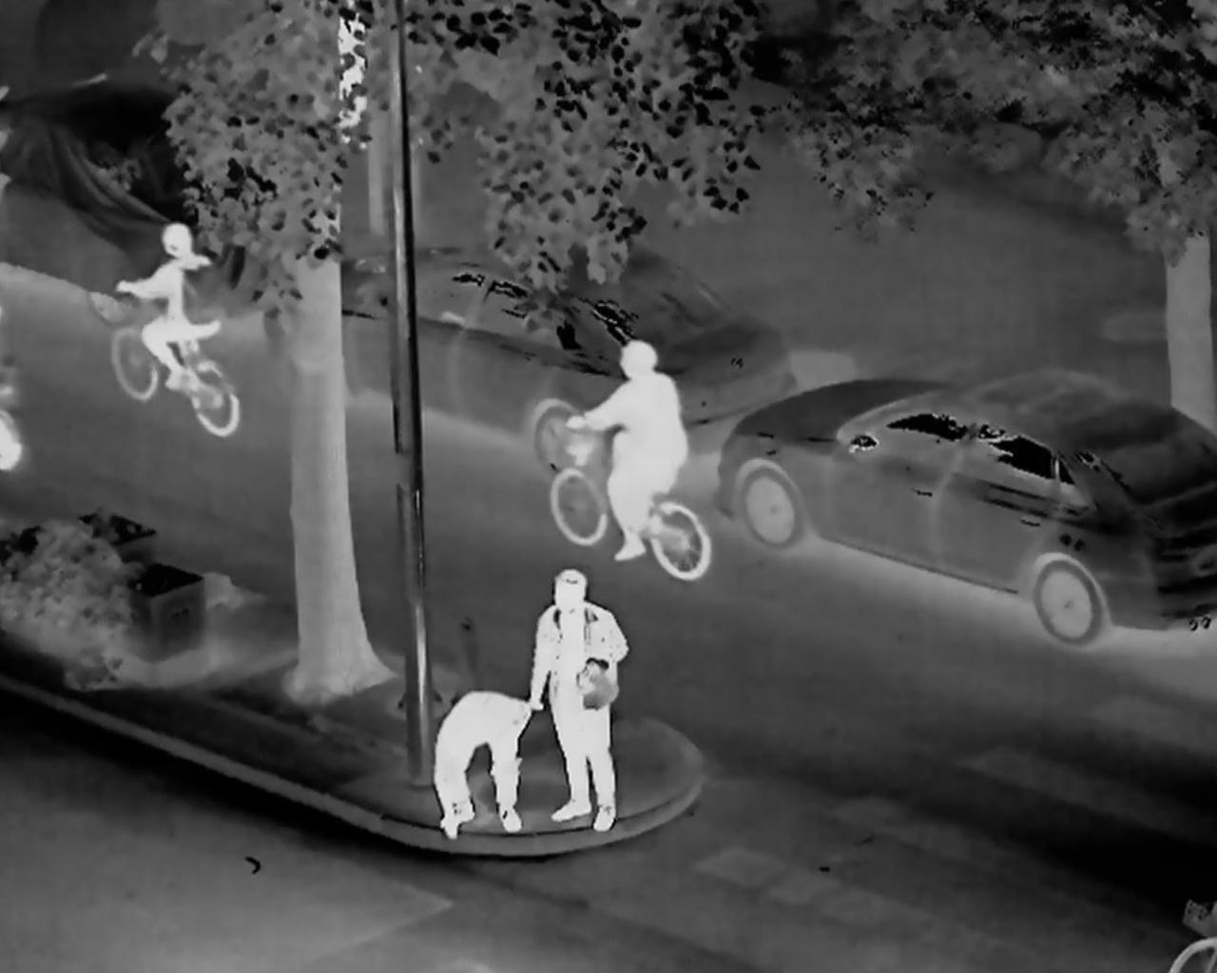person: (517, 568, 642, 852), (561, 334, 689, 566), (113, 211, 230, 394), (432, 678, 543, 850)
